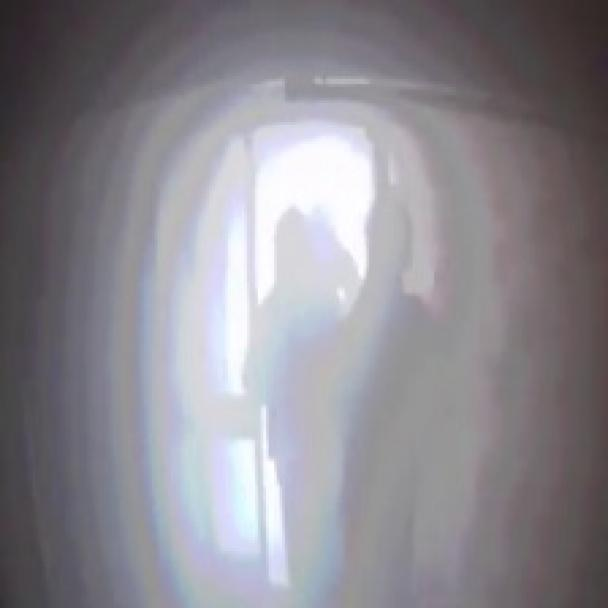smoke: (36, 3, 606, 605)
